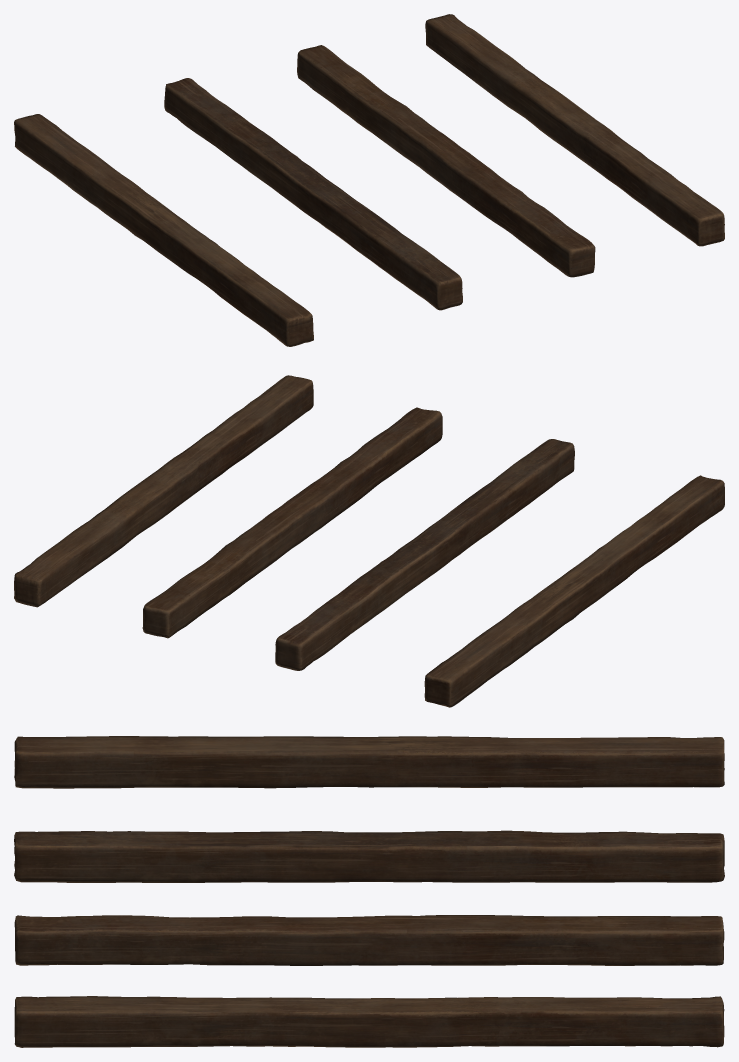
The model's file is sm_wooden_plank_pack_vol_01_all.glb.
The picture shows the model from 3 angles, top to bottom: view 1: azimuth 30°, elevation 25°; view 2: azimuth 150°, elevation 25°; view 3: azimuth 270°, elevation 25°; orthographic projection. The views are drawn at different scales.
Parts seen in each view (by area): view 1: SM_Wooden_Plank_Vol_01_01_T_Wooden_Plank_Pack_01_0, SM_Wooden_Plank_Vol_01_04_T_Wooden_Plank_Pack_01_0, SM_Wooden_Plank_Vol_01_02_T_Wooden_Plank_Pack_01_0, SM_Wooden_Plank_Vol_01_03_T_Wooden_Plank_Pack_01_0; view 2: SM_Wooden_Plank_Vol_01_01_T_Wooden_Plank_Pack_01_0, SM_Wooden_Plank_Vol_01_04_T_Wooden_Plank_Pack_01_0, SM_Wooden_Plank_Vol_01_02_T_Wooden_Plank_Pack_01_0, SM_Wooden_Plank_Vol_01_03_T_Wooden_Plank_Pack_01_0; view 3: SM_Wooden_Plank_Vol_01_04_T_Wooden_Plank_Pack_01_0, SM_Wooden_Plank_Vol_01_03_T_Wooden_Plank_Pack_01_0, SM_Wooden_Plank_Vol_01_01_T_Wooden_Plank_Pack_01_0, SM_Wooden_Plank_Vol_01_02_T_Wooden_Plank_Pack_01_0.
Part boxes in pixels (x1=…): SM_Wooden_Plank_Vol_01_01_T_Wooden_Plank_Pack_01_0: x1=425, y1=14, x2=724, y2=246; SM_Wooden_Plank_Vol_01_04_T_Wooden_Plank_Pack_01_0: x1=14, y1=114, x2=313, y2=346; SM_Wooden_Plank_Vol_01_02_T_Wooden_Plank_Pack_01_0: x1=297, y1=45, x2=595, y2=277; SM_Wooden_Plank_Vol_01_03_T_Wooden_Plank_Pack_01_0: x1=164, y1=78, x2=462, y2=310; SM_Wooden_Plank_Vol_01_01_T_Wooden_Plank_Pack_01_0: x1=14, y1=375, x2=313, y2=607; SM_Wooden_Plank_Vol_01_04_T_Wooden_Plank_Pack_01_0: x1=424, y1=475, x2=724, y2=707; SM_Wooden_Plank_Vol_01_02_T_Wooden_Plank_Pack_01_0: x1=142, y1=407, x2=442, y2=638; SM_Wooden_Plank_Vol_01_03_T_Wooden_Plank_Pack_01_0: x1=275, y1=439, x2=574, y2=670; SM_Wooden_Plank_Vol_01_04_T_Wooden_Plank_Pack_01_0: x1=14, y1=736, x2=724, y2=788; SM_Wooden_Plank_Vol_01_03_T_Wooden_Plank_Pack_01_0: x1=14, y1=830, x2=724, y2=882; SM_Wooden_Plank_Vol_01_01_T_Wooden_Plank_Pack_01_0: x1=14, y1=996, x2=724, y2=1047; SM_Wooden_Plank_Vol_01_02_T_Wooden_Plank_Pack_01_0: x1=14, y1=915, x2=724, y2=965.
Bounding box in the file's own units: 3.24 × 0.2021 × 3.52.
1 material, 1 textured.
